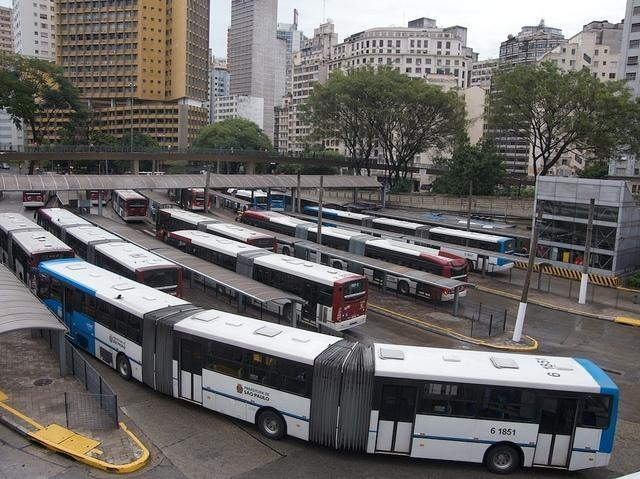bus: (32, 253, 621, 467), (156, 228, 370, 332), (34, 204, 182, 296), (362, 236, 469, 302), (0, 208, 73, 284), (428, 224, 516, 274), (205, 223, 278, 252), (108, 188, 146, 222), (167, 188, 211, 210), (23, 190, 45, 210), (90, 190, 110, 204)
